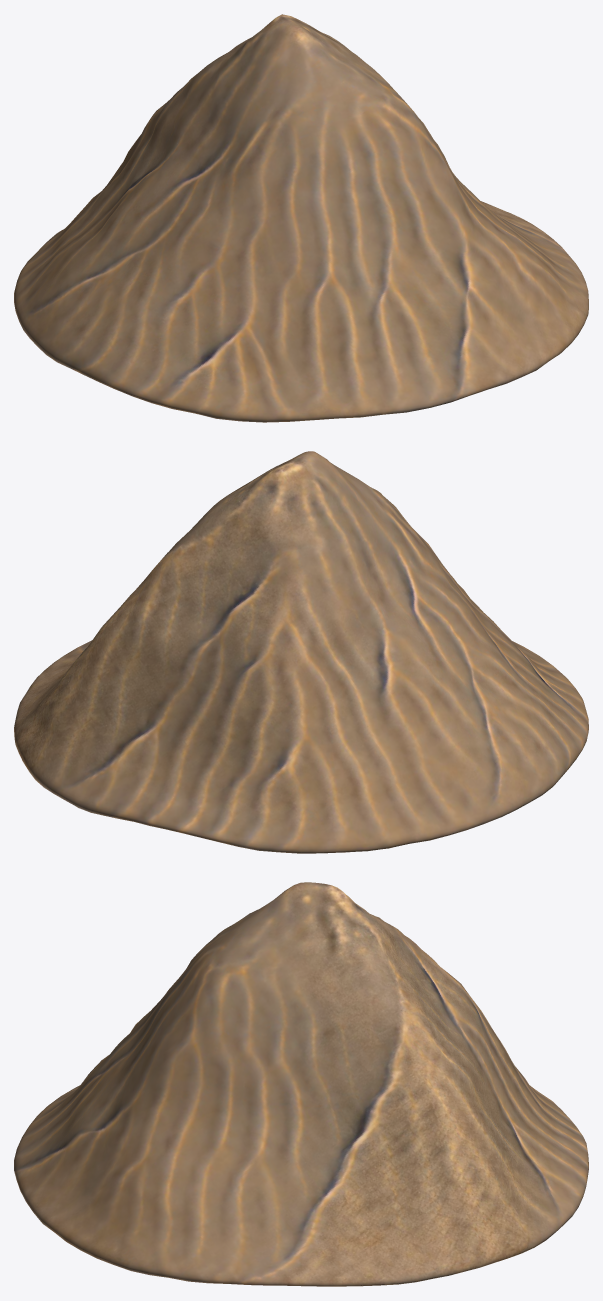
The model's file is sand_mountain.fbx.
3 renders of one model, top to bottom at view 1: azimuth 30°, elevation 25°; view 2: azimuth 150°, elevation 25°; view 3: azimuth 270°, elevation 25°, orthographic.
Visible parts, largest first — view 1: mesh; view 2: mesh; view 3: mesh.
Boxes of the visible parts, <box> form: mesh: <box>14,14,588,422</box>; mesh: <box>14,451,588,853</box>; mesh: <box>14,882,588,1286</box>.
Bounding box in the file's own units: 99.7 × 54.32 × 98.93.
Materials: 1 (1 with a texture image).
